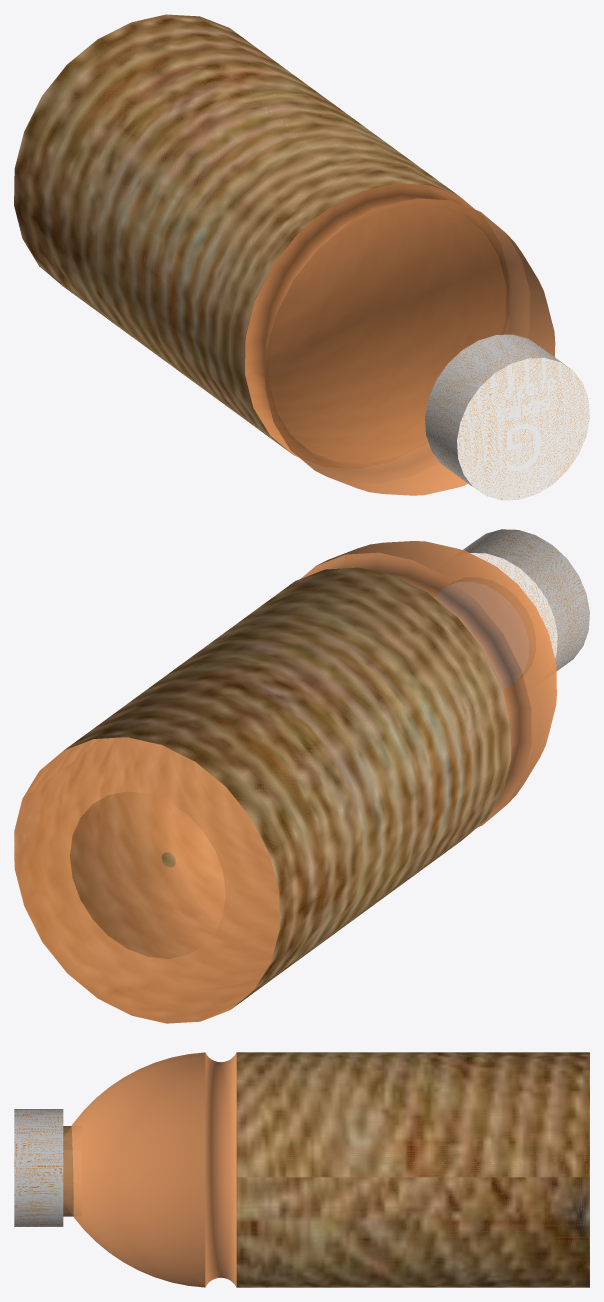
The model's file is model_scale.obj.
3 views of the same model, one above another, from view 1: azimuth 30°, elevation 25°; view 2: azimuth 150°, elevation 25°; view 3: azimuth 270°, elevation 25° (orthographic). The views are drawn at different scales.
Parts seen in each view (by area): view 1: mesh13_mesh13-geometry, mesh14_mesh14-geometry, mesh1_mesh1-geometry; view 2: mesh13_mesh13-geometry, mesh14_mesh14-geometry, mesh15_mesh15-geometry; view 3: mesh13_mesh13-geometry, mesh14_mesh14-geometry, mesh15_mesh15-geometry.
Part boxes in pixels (left/top/right/bottom): mesh13_mesh13-geometry: left=14, top=14, right=555, bottom=495; mesh14_mesh14-geometry: left=425, top=334, right=589, bottom=500; mesh1_mesh1-geometry: left=507, top=423, right=540, bottom=470; mesh13_mesh13-geometry: left=14, top=541, right=556, bottom=1023; mesh14_mesh14-geometry: left=463, top=529, right=589, bottom=670; mesh15_mesh15-geometry: left=435, top=577, right=535, bottom=688; mesh13_mesh13-geometry: left=64, top=1052, right=589, bottom=1287; mesh14_mesh14-geometry: left=14, top=1109, right=63, bottom=1226; mesh15_mesh15-geometry: left=63, top=1126, right=80, bottom=1216.
Bounding box in the file's own units: 0.0794 × 0.0794 × 0.1954.
